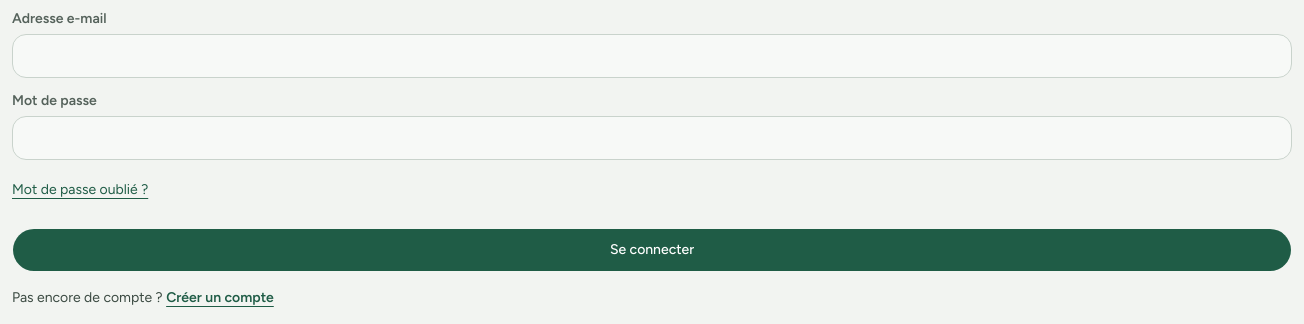
LoginForm › shows the pending label while signing in
Type "moi@example.com" into the field labelled "Adresse e-mail".
click(652, 56); type("moi@example.com")  # box [12, 34, 1292, 78]
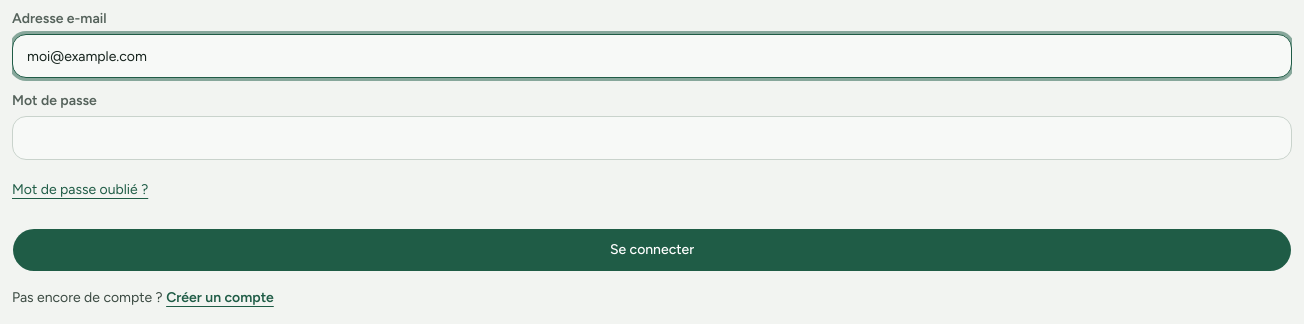
Type "secret" into the password field labelled "Mot de passe".
click(652, 138); type("secret")  # box [12, 116, 1292, 160]
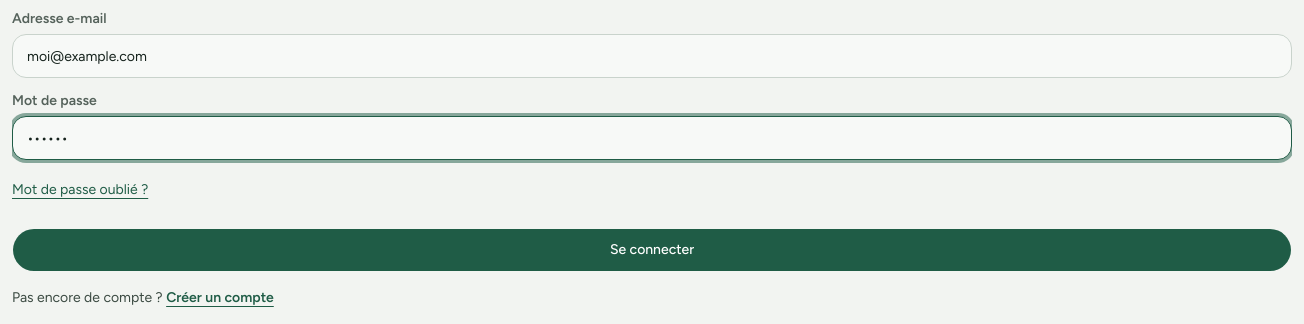
Click the button "Se connecter".
click(652, 250)  # box [12, 228, 1292, 272]
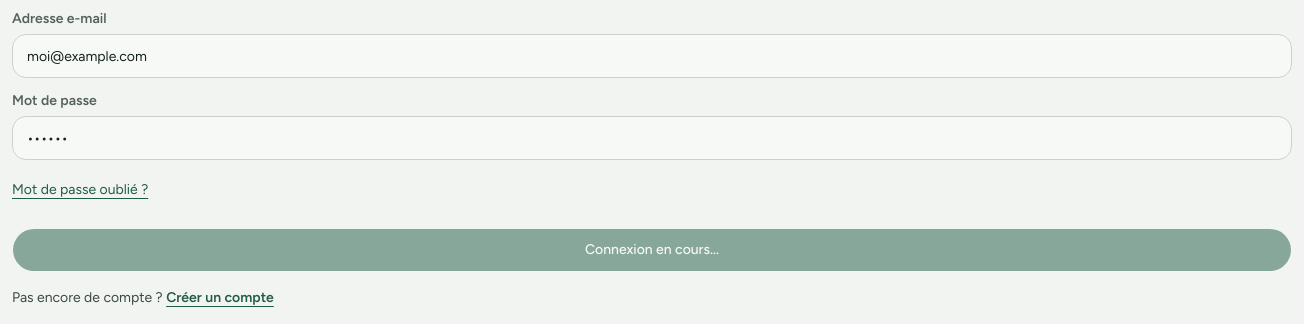
Expected: the button "Connexion en cours…" is disabled, [12, 228, 1292, 272]
